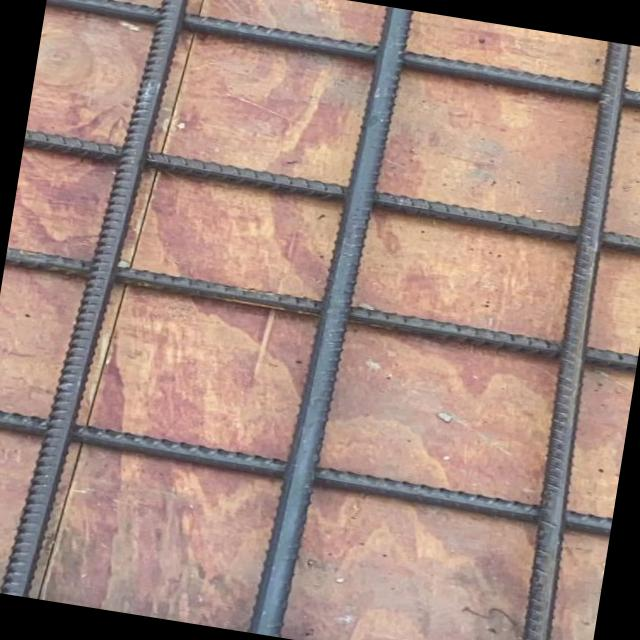ribbed bar: (0, 0, 194, 607), (246, 0, 414, 640), (3, 245, 639, 374), (21, 128, 640, 260), (504, 41, 640, 640), (0, 407, 613, 537), (44, 0, 640, 116)
